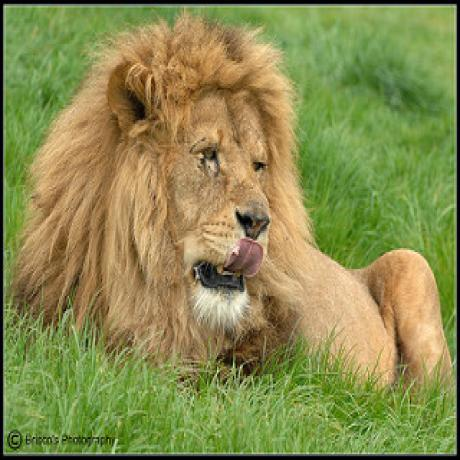Lion: (14, 13, 451, 410)
